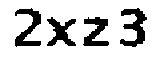2: (10, 6, 45, 50)
3: (118, 3, 149, 48)
x: (46, 13, 79, 52)
z: (82, 15, 112, 49)
